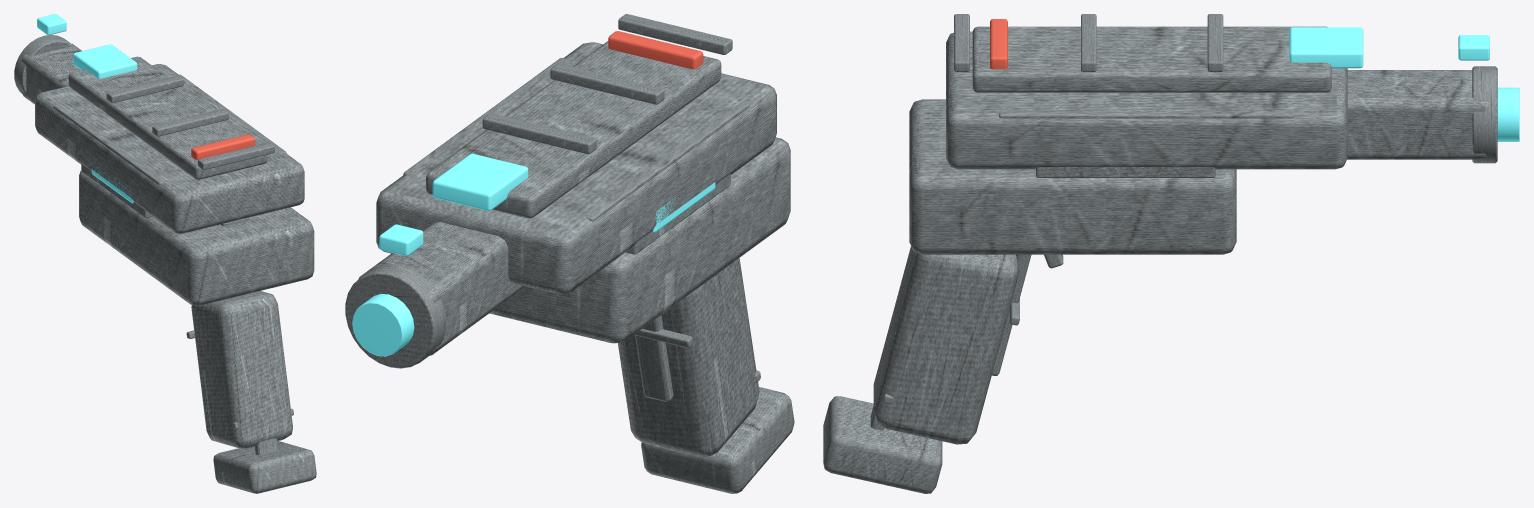
Rendered from hp_viewmodel_sidearm_production.glb.
3 renders of one model, left to right at view 1: azimuth 30°, elevation 25°; view 2: azimuth 150°, elevation 25°; view 3: azimuth 270°, elevation 25°, orthographic. The views are drawn at different scales.
Parts seen in each view (by area): view 1: sidearm_battered_slide_panel, sidearm_receiver_frame_dark_core, sidearm_grip_black_rubber, sidearm_slide_top_scraped_spine, sidearm_magazine_base_dark_plate, sidearm_front_barrel_shroud_dark, sidearm_rear_cyan_sight_window, sidearm_muzzle_ring_scraped_steel, sidearm_side_scraped_slide_rail_00, sidearm_top_machined_rib_00, sidearm_top_machined_rib_01, sidearm_top_machined_rib_02 (+4 smaller); view 2: sidearm_battered_slide_panel, sidearm_receiver_frame_dark_core, sidearm_slide_top_scraped_spine, sidearm_grip_black_rubber, sidearm_front_barrel_shroud_dark, sidearm_magazine_base_dark_plate, sidearm_muzzle_ring_scraped_steel, sidearm_rear_cyan_sight_window, sidearm_cyan_muzzle_energy_lens, sidearm_side_scraped_slide_rail_00, sidearm_grip_front_strap_hero_edge, sidearm_top_machined_rib_01 (+8 smaller); view 3: sidearm_battered_slide_panel, sidearm_receiver_frame_dark_core, sidearm_grip_black_rubber, sidearm_slide_top_scraped_spine, sidearm_front_barrel_shroud_dark, sidearm_magazine_base_dark_plate, sidearm_rear_cyan_sight_window, sidearm_side_scraped_slide_rail_01, sidearm_muzzle_ring_scraped_steel, sidearm_side_dark_recess_cut_01, sidearm_cyan_muzzle_energy_lens, sidearm_top_machined_rib_00 (+5 smaller).
Part boxes in pixels (bbox=[...]): sidearm_battered_slide_panel: bbox=[35, 64, 304, 233]; sidearm_receiver_frame_dark_core: bbox=[79, 171, 314, 305]; sidearm_grip_black_rubber: bbox=[191, 291, 292, 449]; sidearm_slide_top_scraped_spine: bbox=[68, 56, 267, 179]; sidearm_magazine_base_dark_plate: bbox=[213, 441, 316, 493]; sidearm_front_barrel_shroud_dark: bbox=[21, 43, 81, 104]; sidearm_rear_cyan_sight_window: bbox=[73, 44, 137, 78]; sidearm_muzzle_ring_scraped_steel: bbox=[14, 34, 73, 94]; sidearm_side_scraped_slide_rail_00: bbox=[53, 104, 164, 184]; sidearm_top_machined_rib_00: bbox=[106, 75, 183, 103]; sidearm_top_machined_rib_01: bbox=[152, 109, 229, 136]; sidearm_top_machined_rib_02: bbox=[198, 142, 274, 169]; sidearm_battered_slide_panel: bbox=[376, 42, 776, 294]; sidearm_receiver_frame_dark_core: bbox=[489, 137, 790, 343]; sidearm_slide_top_scraped_spine: bbox=[426, 41, 721, 218]; sidearm_grip_black_rubber: bbox=[618, 258, 759, 457]; sidearm_front_barrel_shroud_dark: bbox=[358, 222, 525, 355]; sidearm_magazine_base_dark_plate: bbox=[641, 387, 794, 493]; sidearm_muzzle_ring_scraped_steel: bbox=[345, 263, 445, 368]; sidearm_rear_cyan_sight_window: bbox=[432, 153, 528, 210]; sidearm_cyan_muzzle_energy_lens: bbox=[352, 294, 414, 356]; sidearm_side_scraped_slide_rail_00: bbox=[582, 102, 749, 221]; sidearm_grip_front_strap_hero_edge: bbox=[635, 315, 673, 401]; sidearm_top_machined_rib_01: bbox=[550, 63, 664, 104]; sidearm_battered_slide_panel: bbox=[946, 31, 1347, 169]; sidearm_receiver_frame_dark_core: bbox=[909, 99, 1236, 254]; sidearm_grip_black_rubber: bbox=[873, 246, 1018, 444]; sidearm_slide_top_scraped_spine: bbox=[972, 26, 1331, 92]; sidearm_front_barrel_shroud_dark: bbox=[1347, 70, 1490, 159]; sidearm_magazine_base_dark_plate: bbox=[823, 396, 942, 493]; sidearm_rear_cyan_sight_window: bbox=[1289, 27, 1363, 68]; sidearm_side_scraped_slide_rail_01: bbox=[999, 109, 1294, 118]; sidearm_muzzle_ring_scraped_steel: bbox=[1472, 66, 1497, 163]; sidearm_side_dark_recess_cut_01: bbox=[1036, 167, 1215, 177]; sidearm_cyan_muzzle_energy_lens: bbox=[1497, 87, 1519, 141]; sidearm_top_machined_rib_00: bbox=[1207, 14, 1223, 71].
Size of the model in its own units: 0.4 by 0.9142 by 1.32.
7 materials, 5 textured.
